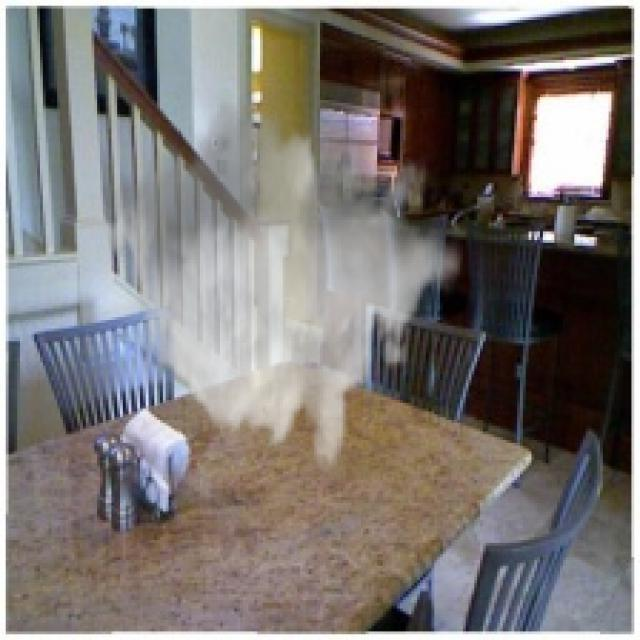Smoke: (103, 89, 463, 478)
